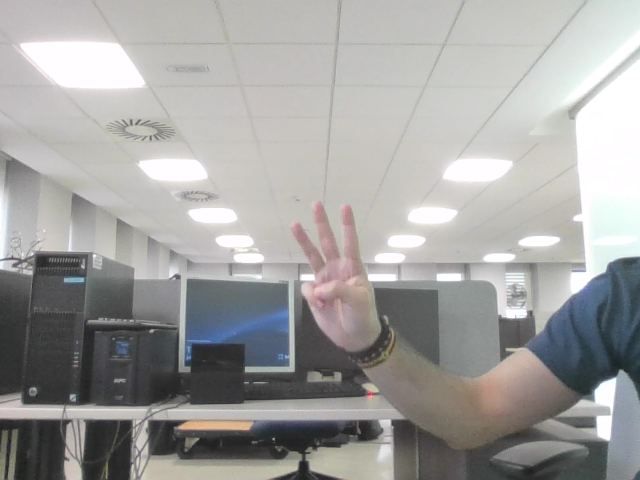3Dedos: (300, 213, 360, 312)
